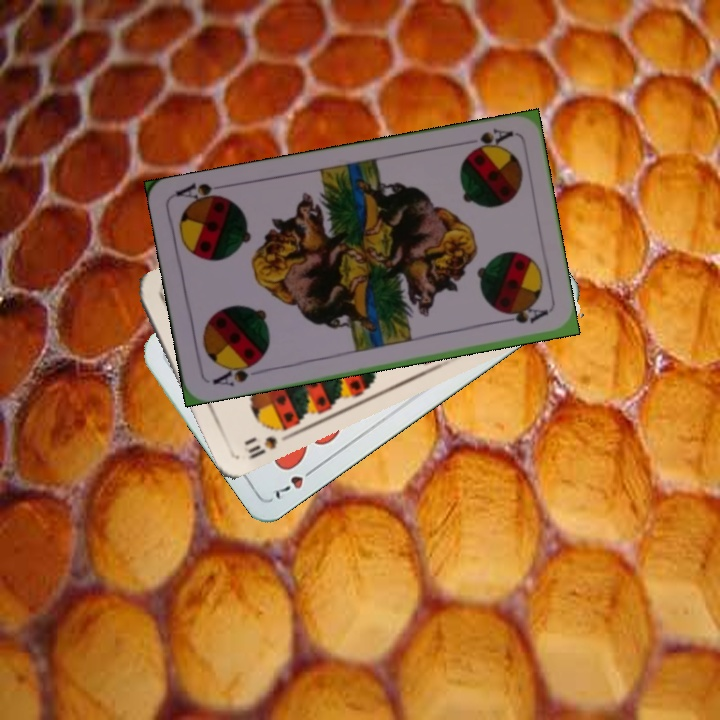H7: (270, 462, 320, 502)
S10: (244, 421, 294, 462)
SA: (457, 124, 516, 157), (208, 357, 263, 389)
